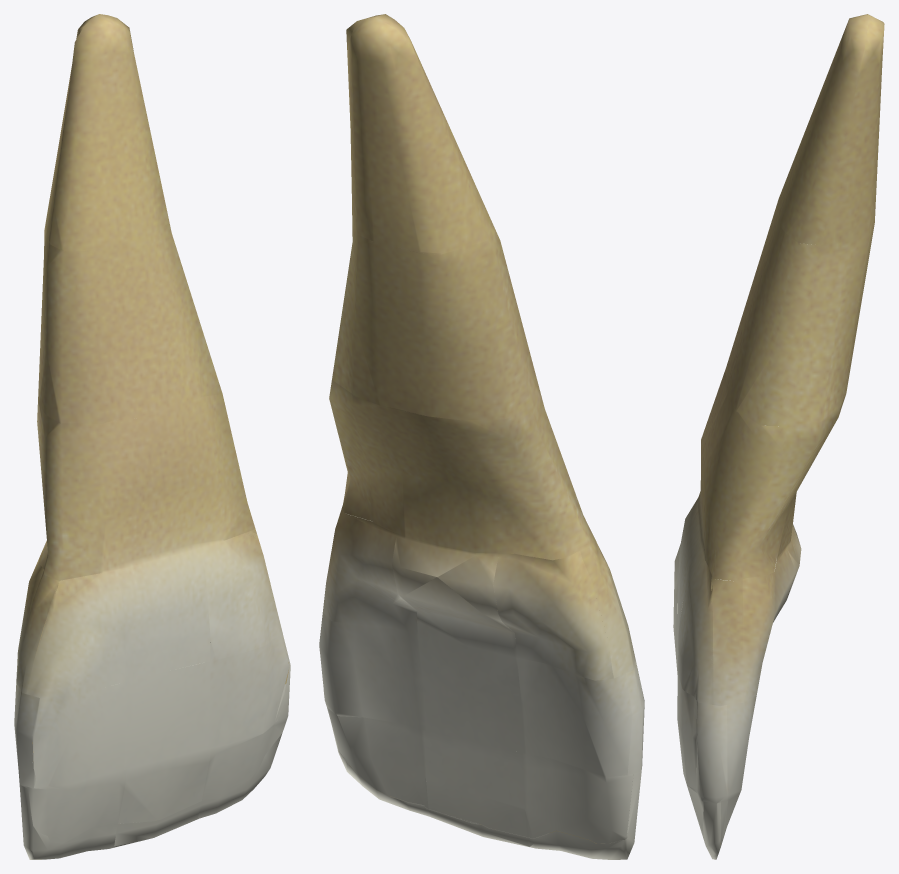
File: Right_Upper_Central_Incisor.glb
3 views of the same model, side by side, from view 1: azimuth 30°, elevation 25°; view 2: azimuth 150°, elevation 25°; view 3: azimuth 270°, elevation 25° (orthographic). The views are drawn at different scales.
Parts seen in each view (by area): view 1: human_teeth_upper_central_incisor_geo.029; view 2: human_teeth_upper_central_incisor_geo.029; view 3: human_teeth_upper_central_incisor_geo.029.
Boxes of the visible parts, <box> form: human_teeth_upper_central_incisor_geo.029: <box>14,14,290,859</box>; human_teeth_upper_central_incisor_geo.029: <box>319,14,644,859</box>; human_teeth_upper_central_incisor_geo.029: <box>673,14,884,859</box>.
Size of the model in its own units: 1.25 by 3.31 by 0.7705.
Materials: 30 (30 with a texture image).
